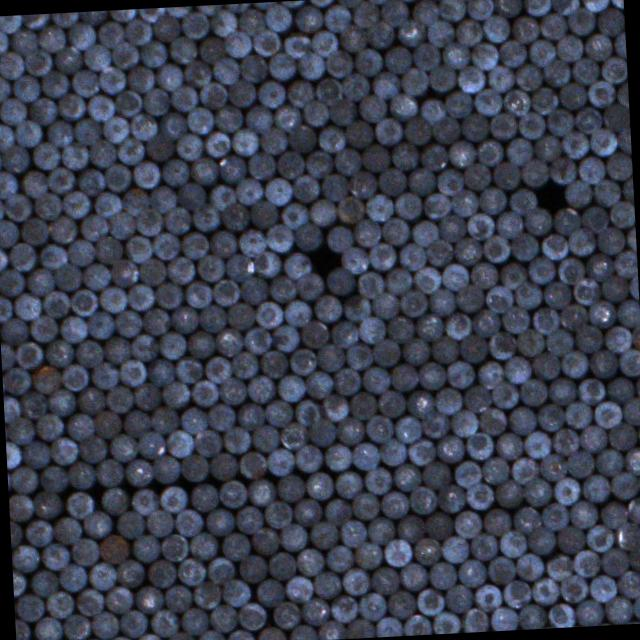tool: (324, 48, 354, 78), (116, 358, 146, 388), (588, 348, 618, 378), (386, 590, 416, 620), (322, 3, 351, 33), (566, 7, 596, 36), (266, 51, 296, 80), (371, 70, 400, 100), (582, 32, 612, 61), (238, 276, 268, 305), (31, 364, 60, 394), (247, 374, 276, 404), (218, 479, 247, 509), (99, 534, 128, 564), (469, 41, 498, 70), (529, 86, 558, 115), (133, 382, 162, 411), (332, 366, 361, 395), (122, 409, 151, 438), (165, 429, 194, 458), (334, 470, 363, 499), (422, 461, 451, 490), (569, 500, 598, 529), (181, 10, 209, 40), (22, 48, 52, 76), (538, 12, 568, 40), (239, 52, 267, 82), (444, 89, 472, 119), (88, 138, 116, 168), (347, 170, 377, 198), (238, 228, 266, 258), (586, 252, 614, 282), (45, 338, 73, 368), (112, 309, 142, 337), (484, 284, 512, 314), (58, 364, 88, 392), (360, 366, 390, 394), (390, 362, 418, 392), (418, 360, 446, 390), (446, 358, 474, 388), (34, 412, 62, 442), (150, 406, 178, 436), (349, 390, 377, 420), (49, 436, 77, 466), (508, 406, 536, 436), (522, 478, 552, 506), (527, 524, 555, 554), (529, 576, 559, 604), (209, 8, 237, 37), (294, 4, 323, 32), (54, 45, 82, 74), (110, 41, 139, 69), (169, 35, 197, 64), (252, 28, 281, 56), (310, 29, 338, 58), (397, 19, 426, 47), (596, 7, 624, 36), (40, 70, 69, 98), (70, 68, 98, 97), (125, 65, 154, 93), (154, 61, 182, 90), (142, 86, 170, 115), (226, 79, 255, 107), (354, 47, 382, 76), (412, 41, 440, 70), (389, 92, 417, 121), (602, 102, 630, 131), (189, 156, 218, 184), (218, 154, 246, 183), (108, 210, 136, 239), (221, 202, 249, 231), (151, 232, 180, 260), (180, 232, 209, 260), (266, 223, 294, 252), (336, 194, 364, 223), (364, 194, 393, 222), (564, 179, 592, 208), (454, 237, 482, 266), (509, 232, 538, 260), (109, 259, 138, 287), (129, 333, 157, 362), (514, 280, 542, 309), (258, 349, 286, 378), (458, 333, 486, 362), (488, 331, 516, 360), (277, 373, 306, 401), (304, 370, 332, 399), (531, 351, 559, 380), (406, 390, 434, 419), (548, 377, 576, 406), (108, 433, 136, 462), (378, 438, 406, 467), (494, 432, 522, 461), (594, 447, 622, 476), (88, 561, 116, 590), (114, 559, 142, 588), (263, 500, 291, 529), (147, 560, 176, 588), (177, 557, 206, 585), (556, 526, 585, 554), (357, 592, 386, 620), (444, 583, 472, 612), (560, 573, 588, 602), (80, 213, 110, 240), (354, 217, 381, 247), (372, 338, 399, 368), (93, 410, 120, 440), (265, 398, 292, 428), (137, 430, 164, 460), (123, 18, 151, 46), (238, 8, 266, 36), (340, 24, 368, 52), (12, 74, 40, 102), (86, 94, 114, 122), (212, 56, 240, 84), (114, 90, 142, 118), (257, 80, 285, 108), (198, 81, 226, 109), (286, 80, 314, 108), (314, 78, 342, 106), (400, 67, 428, 95), (498, 39, 526, 67), (428, 64, 456, 92), (486, 64, 514, 92), (514, 63, 542, 91), (542, 60, 570, 88), (102, 116, 130, 144), (130, 113, 158, 141), (245, 104, 273, 132), (474, 88, 502, 116), (558, 82, 586, 110), (34, 192, 62, 220), (132, 161, 160, 189), (62, 190, 90, 218), (120, 188, 148, 216), (276, 150, 304, 178), (334, 147, 362, 175), (561, 131, 589, 159), (589, 128, 617, 156), (135, 208, 163, 236), (177, 182, 205, 210), (282, 202, 310, 230), (94, 235, 122, 263), (293, 222, 321, 250), (450, 190, 478, 218), (478, 187, 506, 215), (524, 207, 552, 235), (381, 217, 409, 245), (367, 242, 395, 270), (466, 212, 494, 240), (424, 238, 452, 266), (398, 243, 426, 271), (608, 200, 636, 228), (82, 262, 110, 290), (137, 257, 165, 285), (166, 256, 194, 284), (196, 253, 224, 281), (226, 254, 254, 282), (13, 292, 41, 320), (42, 290, 70, 318), (70, 288, 98, 316), (126, 282, 154, 310), (211, 278, 239, 306), (413, 266, 441, 294), (556, 256, 584, 284), (75, 339, 103, 367), (198, 304, 226, 332), (254, 300, 282, 328), (314, 294, 342, 322), (342, 294, 370, 322), (398, 289, 426, 317), (572, 277, 600, 305), (2, 366, 30, 394), (244, 327, 272, 355), (358, 316, 386, 344), (415, 314, 443, 342), (204, 356, 232, 384), (230, 350, 258, 378), (288, 348, 316, 376), (316, 343, 344, 371), (430, 336, 458, 364), (516, 328, 544, 356), (544, 328, 572, 356), (574, 325, 602, 353), (47, 388, 75, 416), (77, 386, 105, 414), (105, 385, 133, 413), (161, 380, 189, 408), (434, 386, 462, 414), (78, 435, 106, 463), (222, 426, 250, 454), (308, 418, 336, 446), (336, 416, 364, 444), (593, 401, 621, 429), (95, 458, 123, 486), (180, 454, 208, 482), (209, 452, 237, 480), (266, 448, 294, 476), (247, 478, 275, 506), (276, 474, 304, 502), (392, 462, 420, 490), (15, 594, 43, 622), (46, 590, 74, 618), (174, 508, 202, 536), (206, 556, 234, 584), (268, 552, 296, 580), (222, 578, 250, 606), (256, 579, 284, 607), (238, 602, 266, 630), (209, 604, 237, 632), (150, 608, 178, 636), (294, 498, 322, 526), (408, 486, 436, 514), (465, 482, 493, 510), (309, 520, 337, 548), (610, 470, 638, 498), (586, 524, 614, 552), (296, 548, 324, 576), (382, 538, 410, 566), (440, 536, 468, 564), (498, 530, 526, 558), (514, 552, 542, 580), (398, 562, 426, 590), (474, 583, 502, 611), (572, 548, 600, 576), (588, 574, 616, 602), (574, 598, 602, 626), (604, 596, 632, 624), (153, 13, 180, 42), (341, 72, 368, 101), (528, 38, 555, 67), (117, 136, 144, 165), (145, 133, 174, 160), (231, 127, 258, 156), (374, 117, 401, 146), (377, 168, 406, 195), (408, 168, 437, 195), (29, 314, 58, 341), (15, 340, 42, 369), (215, 328, 242, 357), (472, 308, 499, 337), (19, 390, 46, 419), (476, 359, 503, 388), (560, 349, 587, 378), (565, 450, 594, 477), (553, 477, 580, 506), (423, 514, 452, 541), (455, 66, 485, 92), (504, 354, 530, 384), (252, 424, 278, 454), (10, 28, 37, 56), (68, 22, 95, 50), (264, 4, 291, 32), (83, 44, 110, 72), (200, 36, 227, 64), (224, 31, 252, 58), (427, 20, 454, 48), (482, 15, 510, 42), (169, 85, 197, 112), (297, 51, 324, 79), (442, 41, 469, 69), (571, 57, 599, 84), (600, 56, 628, 83), (75, 118, 102, 146), (186, 107, 214, 134), (275, 104, 302, 132), (329, 98, 357, 125), (587, 81, 615, 108), (1, 145, 28, 173), (32, 141, 59, 169), (175, 132, 202, 160), (316, 126, 344, 153), (346, 120, 373, 148), (518, 112, 545, 140), (46, 167, 74, 194), (3, 192, 30, 220), (162, 159, 189, 187), (247, 152, 274, 180), (49, 216, 77, 243), (264, 178, 292, 205), (292, 174, 319, 202), (320, 173, 347, 201), (462, 162, 490, 189), (605, 153, 633, 180), (125, 235, 153, 262), (209, 230, 236, 258), (394, 192, 421, 220), (593, 178, 620, 206), (340, 246, 368, 273), (482, 234, 509, 262), (552, 208, 580, 235), (580, 206, 608, 233), (26, 267, 53, 295), (540, 233, 568, 260), (596, 227, 624, 254), (295, 272, 323, 299), (385, 268, 412, 296), (59, 316, 87, 343), (170, 306, 198, 333), (157, 332, 185, 359), (543, 280, 570, 308), (601, 274, 628, 302), (271, 324, 298, 352), (300, 321, 328, 348), (501, 306, 528, 334), (532, 306, 559, 334), (588, 300, 615, 328), (146, 359, 174, 386), (175, 356, 202, 384), (190, 378, 217, 406), (6, 417, 34, 444), (66, 414, 94, 441), (22, 440, 49, 468), (208, 403, 235, 431), (237, 402, 264, 430), (321, 394, 348, 422), (519, 377, 546, 405), (576, 377, 604, 404), (280, 422, 307, 450), (394, 416, 421, 444), (450, 409, 477, 437), (564, 401, 592, 428), (126, 458, 153, 486), (33, 491, 61, 518), (100, 486, 127, 514), (160, 486, 187, 514), (238, 452, 266, 479), (436, 434, 463, 462), (551, 428, 578, 456), (454, 461, 482, 488), (71, 538, 99, 565), (105, 586, 132, 614), (120, 609, 147, 637), (91, 610, 118, 638), (132, 534, 159, 562), (324, 499, 352, 526), (437, 484, 464, 512), (396, 515, 424, 542), (469, 532, 496, 560), (487, 556, 515, 583), (458, 559, 486, 586), (314, 570, 341, 598), (502, 580, 529, 608), (600, 548, 628, 575), (379, 0, 408, 26), (182, 60, 211, 86), (383, 47, 412, 73), (9, 242, 35, 271), (568, 227, 594, 256), (326, 268, 355, 294), (332, 320, 358, 349), (463, 386, 492, 412), (366, 414, 392, 443), (306, 472, 332, 501), (482, 456, 508, 485), (540, 452, 566, 481), (415, 588, 444, 614), (517, 604, 546, 630), (351, 0, 378, 27), (140, 40, 167, 67), (366, 21, 393, 48), (555, 34, 582, 61), (215, 106, 242, 133), (461, 114, 488, 141), (361, 144, 388, 171), (448, 140, 475, 167), (476, 140, 503, 167), (149, 187, 176, 214), (235, 178, 262, 205), (549, 158, 576, 185), (309, 198, 336, 225), (509, 188, 536, 215), (326, 225, 353, 252), (283, 252, 310, 279), (441, 263, 468, 290), (91, 362, 118, 389), (193, 429, 220, 456), (537, 404, 564, 431), (66, 492, 93, 519), (523, 431, 550, 458), (510, 457, 537, 484), (42, 543, 69, 570), (62, 613, 89, 640), (190, 532, 217, 559), (192, 581, 219, 608), (381, 491, 408, 518), (341, 568, 368, 595), (330, 595, 357, 622), (98, 22, 126, 48), (283, 34, 311, 60), (455, 18, 481, 46), (56, 94, 84, 120), (27, 98, 55, 124), (14, 120, 40, 148), (46, 121, 74, 147), (160, 114, 188, 140), (358, 96, 386, 122), (502, 90, 530, 116), (288, 124, 314, 152), (490, 112, 516, 140), (574, 108, 602, 134), (105, 164, 131, 192), (391, 142, 417, 170), (420, 144, 448, 170), (506, 137, 532, 165), (21, 218, 49, 244), (192, 204, 218, 232), (492, 162, 520, 188), (522, 158, 548, 186), (578, 156, 604, 184), (423, 192, 451, 218), (496, 210, 522, 238), (54, 262, 80, 290), (357, 271, 383, 299), (500, 262, 526, 290), (528, 256, 554, 284), (1, 318, 27, 346), (104, 336, 130, 364), (228, 302, 254, 330), (371, 292, 399, 318), (429, 288, 455, 316), (457, 284, 483, 312), (387, 316, 413, 344), (444, 312, 470, 340), (559, 304, 587, 330), (402, 337, 428, 365), (604, 325, 630, 353), (218, 378, 246, 404), (180, 408, 208, 434), (294, 398, 320, 426), (378, 390, 404, 418), (478, 408, 506, 434), (10, 467, 38, 493), (295, 444, 321, 472), (352, 442, 378, 470), (364, 466, 390, 494), (406, 440, 434, 466), (580, 425, 606, 453), (12, 545, 38, 573), (58, 564, 86, 590), (76, 588, 102, 616), (136, 586, 162, 614), (146, 508, 172, 536), (161, 534, 187, 562), (222, 534, 250, 560), (252, 526, 278, 554), (352, 491, 378, 519), (280, 522, 306, 550), (513, 508, 541, 534), (542, 502, 568, 530), (600, 502, 628, 528), (414, 536, 440, 564), (428, 562, 456, 588), (273, 600, 299, 628), (440, 213, 465, 242), (615, 298, 640, 327), (411, 0, 438, 26), (512, 15, 538, 42), (0, 98, 26, 125), (260, 128, 287, 154), (432, 117, 459, 143), (546, 109, 572, 136), (78, 170, 105, 196), (94, 192, 121, 218), (209, 184, 236, 210), (252, 201, 278, 228), (436, 168, 462, 195), (40, 244, 67, 270), (68, 239, 94, 266), (412, 220, 438, 247), (99, 286, 126, 312), (154, 283, 181, 309), (184, 282, 211, 308), (469, 262, 496, 288), (142, 307, 169, 333), (188, 331, 214, 358), (492, 381, 518, 408), (422, 411, 448, 438), (68, 462, 95, 488), (466, 432, 492, 459), (608, 424, 634, 451), (116, 512, 143, 538), (206, 509, 233, 535), (164, 585, 190, 612), (286, 575, 312, 602), (181, 608, 208, 634), (496, 479, 522, 506), (582, 475, 608, 502), (484, 508, 511, 534), (614, 522, 640, 549), (354, 542, 381, 568), (489, 606, 516, 632), (548, 602, 575, 628), (39, 24, 64, 52), (100, 66, 125, 94), (420, 98, 445, 126), (533, 136, 561, 161), (254, 250, 279, 278), (613, 250, 638, 278), (454, 511, 482, 536), (0, 50, 23, 80), (303, 100, 329, 126), (62, 144, 88, 170), (204, 131, 230, 157), (404, 118, 430, 144), (269, 276, 295, 302), (87, 312, 113, 338), (286, 300, 312, 326), (346, 344, 372, 370), (42, 466, 68, 492), (152, 456, 178, 482), (132, 490, 158, 516), (191, 485, 217, 511), (325, 444, 351, 470), (26, 520, 52, 546), (55, 518, 81, 544), (84, 512, 110, 538), (237, 507, 263, 533), (240, 556, 266, 582), (340, 520, 366, 546), (372, 568, 398, 594), (302, 598, 328, 624), (31, 571, 58, 596), (164, 206, 188, 234), (9, 494, 33, 522), (545, 556, 573, 580), (307, 152, 332, 178), (462, 608, 488, 633), (608, 377, 632, 404), (34, 616, 61, 640), (432, 610, 459, 634), (616, 570, 640, 597), (0, 268, 23, 296), (368, 518, 393, 543), (22, 171, 46, 197), (403, 613, 430, 636), (619, 347, 640, 376), (327, 546, 352, 570), (374, 616, 401, 638), (437, 0, 465, 21), (316, 619, 344, 640), (466, 0, 493, 20), (346, 619, 372, 639), (622, 397, 640, 425), (492, 0, 521, 17), (0, 220, 18, 247), (0, 171, 17, 199), (3, 395, 20, 423), (49, 12, 78, 28), (550, 0, 579, 16), (522, 0, 549, 17), (6, 439, 21, 468), (616, 127, 632, 154), (624, 448, 640, 475), (289, 624, 316, 640), (78, 11, 107, 25), (21, 14, 49, 28), (138, 8, 166, 22), (0, 15, 21, 33), (626, 496, 640, 523), (0, 124, 13, 152), (1, 342, 14, 370), (257, 627, 285, 640), (627, 544, 640, 572), (614, 30, 626, 60), (108, 10, 136, 22), (13, 568, 25, 596), (617, 83, 629, 110), (165, 6, 191, 18), (581, 0, 608, 11), (0, 295, 11, 322), (15, 619, 28, 640), (0, 75, 10, 102), (198, 630, 225, 640), (226, 630, 253, 640), (165, 631, 193, 640), (10, 522, 20, 547), (632, 592, 640, 621), (0, 28, 8, 55), (0, 245, 7, 271), (135, 634, 162, 640), (610, 0, 624, 8), (107, 636, 133, 640)
void: (532, 181, 565, 211), (310, 246, 341, 274)
